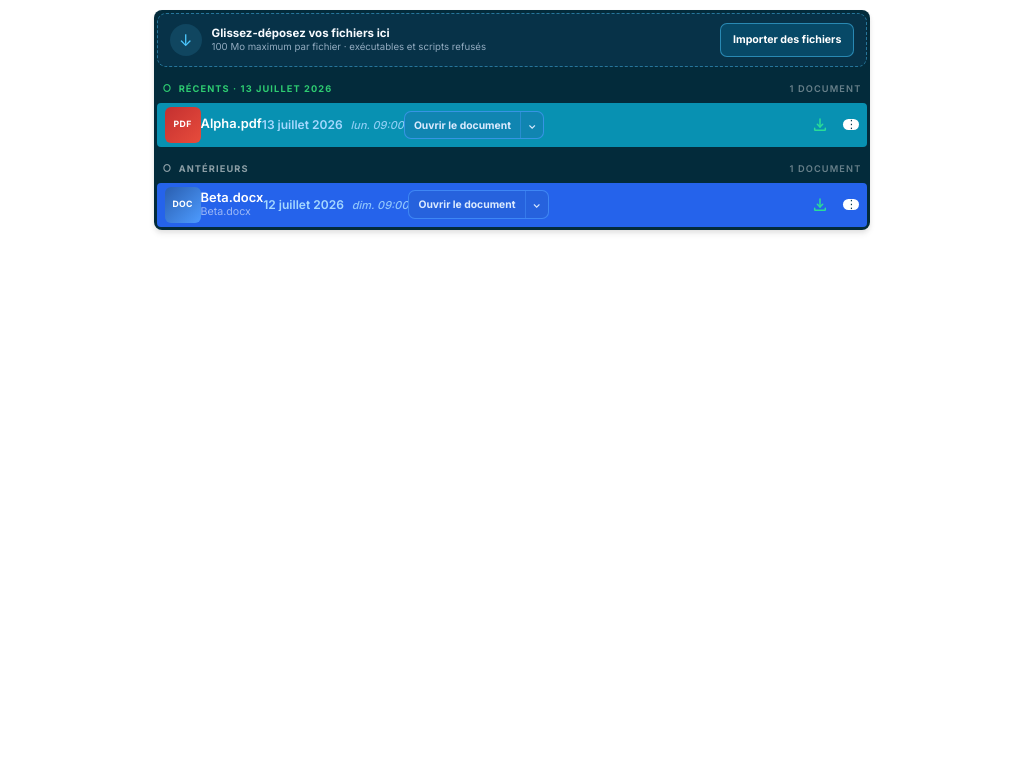
menu contextuel interactif des documents › n ouvre qu un menu, le repositionne pour un autre document et ferme au clic exterieur
Step 1. Click the button named "options du document alpha.pdf" → (851, 125), box left=843, top=119, right=859, bottom=130
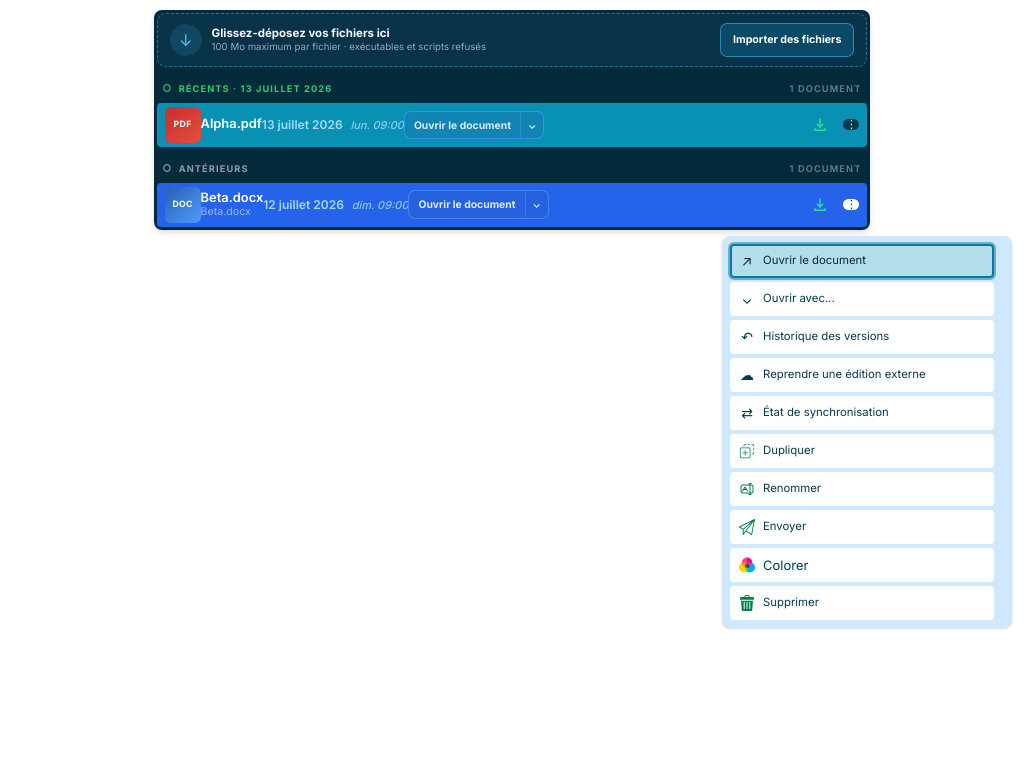
Now the number of menus is 1, box left=722, top=236, right=1012, bottom=628
Step 2. Click the button named "options du document beta.docx" → (851, 205), box left=843, top=199, right=859, bottom=210
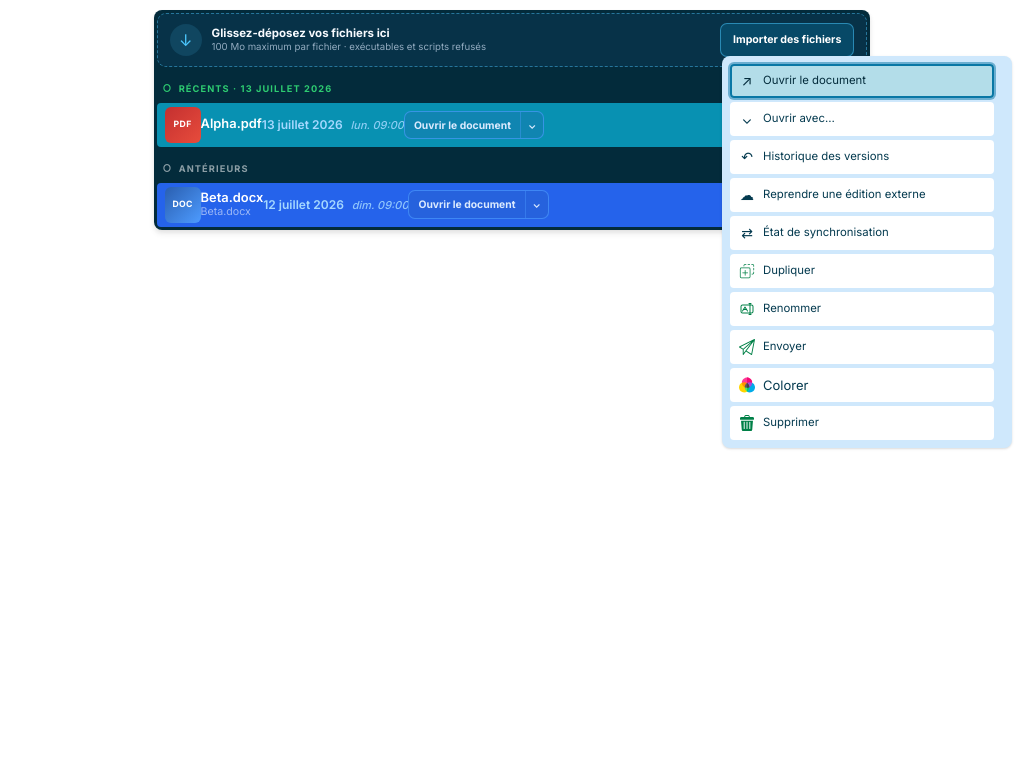
Now the number of menus is 1, box left=722, top=56, right=1012, bottom=448
Step 3. Press the mouse on the element that starts with "Glissez-déposez vos fichiers ici" → (512, 384), box left=0, top=0, right=1023, bottom=767
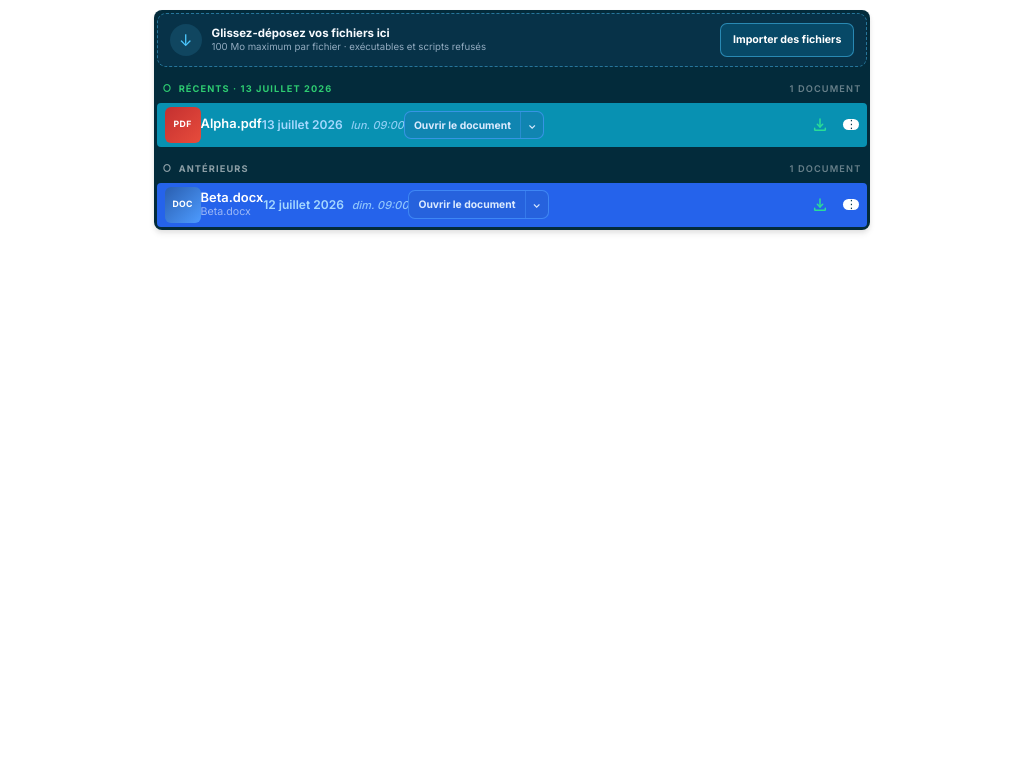
Now the menu is gone
